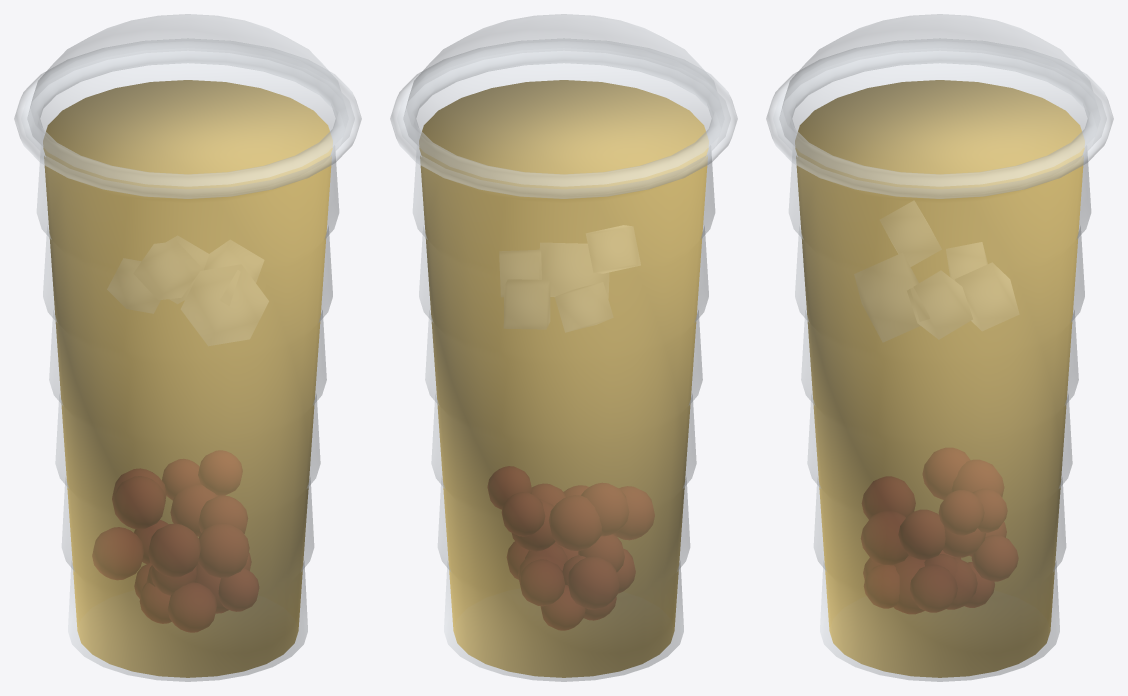
Rendered from prop_fruit_tea.glb.
3 views of the same model, side by side, from view 1: azimuth 30°, elevation 25°; view 2: azimuth 150°, elevation 25°; view 3: azimuth 270°, elevation 25° (orthographic).
Visible parts, largest first — view 1: prop_fruit_tea; view 2: prop_fruit_tea; view 3: prop_fruit_tea.
Boxes of the visible parts, x1,y1,x2,y2 form: prop_fruit_tea: (14,14,361,681); prop_fruit_tea: (390,14,737,681); prop_fruit_tea: (766,14,1113,681).
Size of the model in its own units: 0.0927 by 0.1742 by 0.0927.
